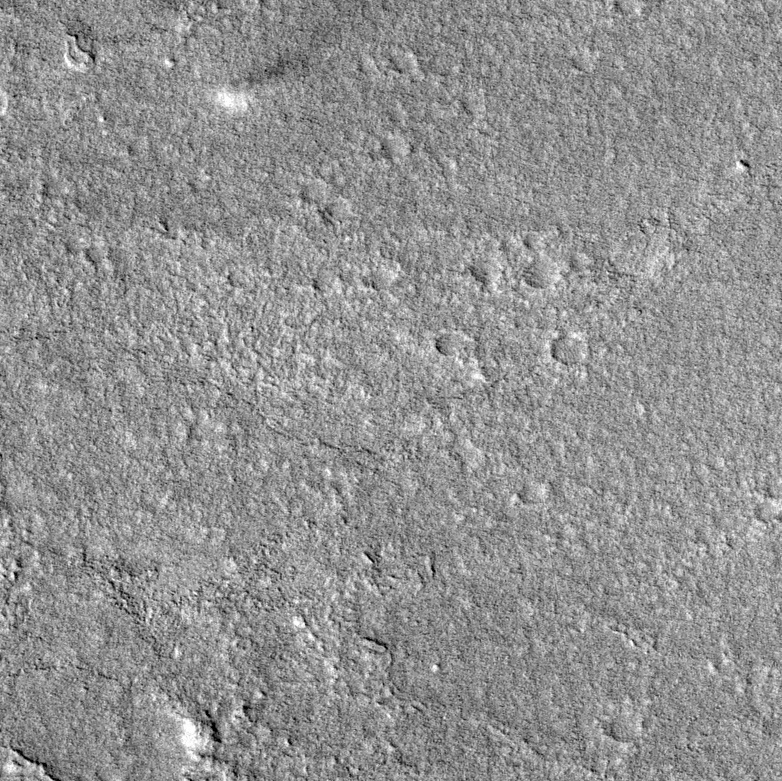dust_devil: (214, 51, 311, 114)
